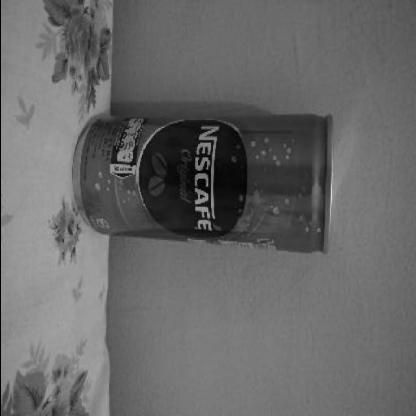alumunium_can: (69, 110, 335, 258)
